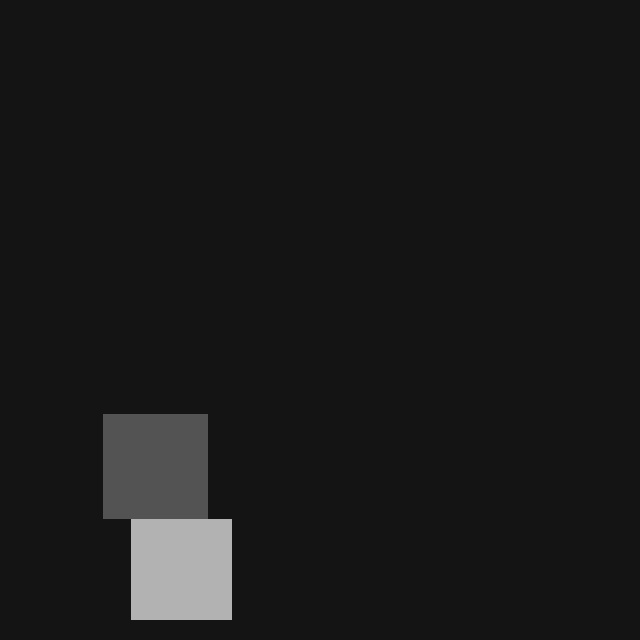square: (103, 414, 207, 518), (131, 519, 231, 619)
